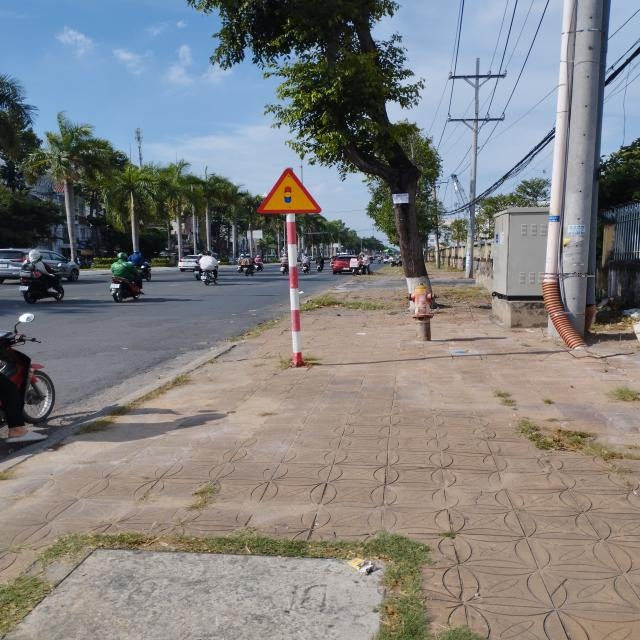Duong_Co_Go_Giam_Toc: (257, 168, 322, 213)
